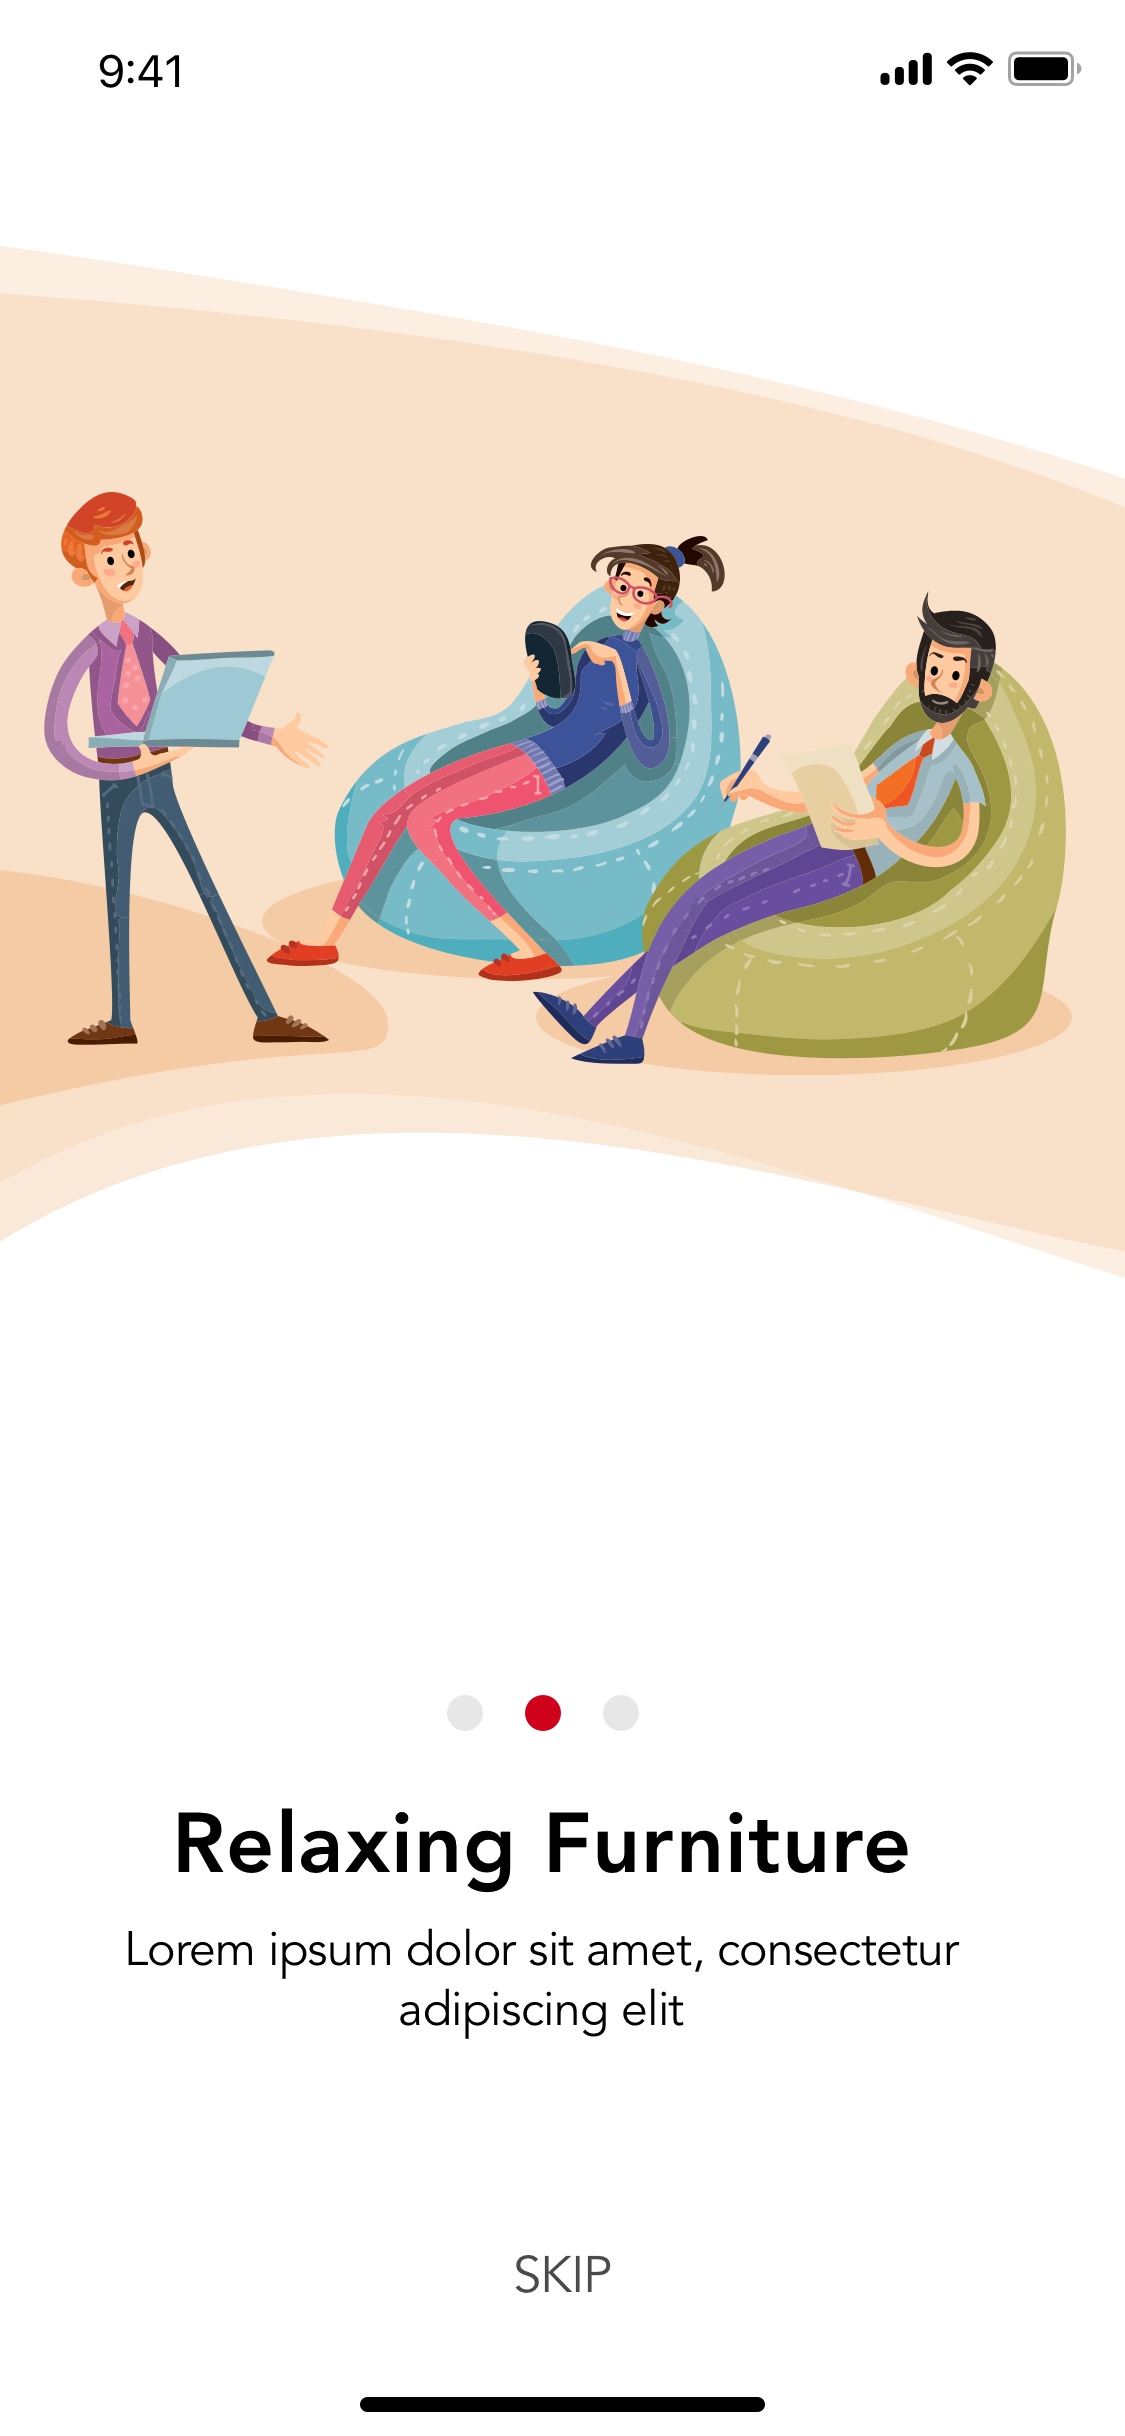Image: (42, 488, 1074, 1077)
PageIndicator: (448, 1693, 642, 1732)
Text: (127, 1928, 960, 2040), (177, 1807, 907, 1892), (514, 2254, 611, 2295)
UpperTaskBar: (99, 51, 1083, 90)
